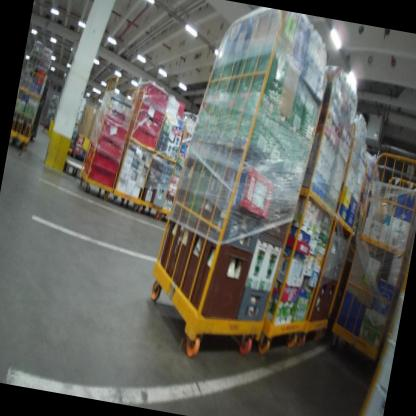small_load_carrier: (81, 143, 124, 181), (89, 111, 130, 148), (84, 128, 126, 164), (76, 159, 119, 190), (129, 81, 169, 113), (124, 105, 164, 136), (94, 95, 134, 126), (128, 94, 165, 124), (123, 123, 160, 151)
